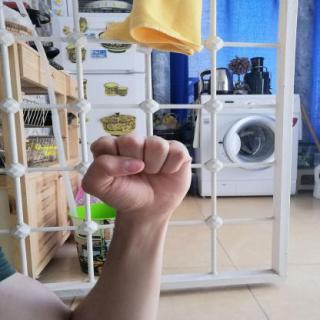SAD: (67, 125, 208, 222)
